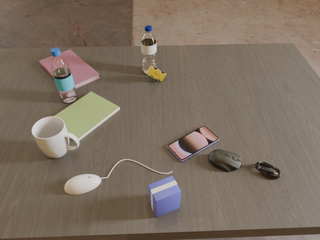book: (54, 92, 120, 141), (39, 50, 100, 89)
bottle: (51, 48, 77, 103), (141, 26, 157, 74)
box: (149, 176, 181, 217)
cup: (32, 116, 79, 158)
mouse: (208, 149, 243, 171), (65, 174, 101, 194)
phone: (168, 126, 219, 161)
toy_car: (146, 66, 166, 82)
